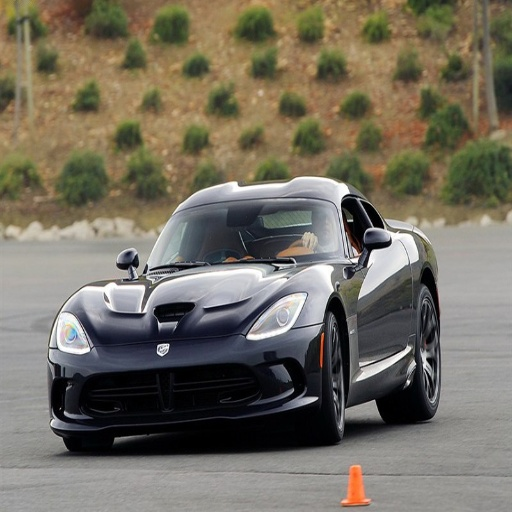front_bumper: (53, 297, 320, 432)
front_glass: (153, 198, 336, 267)
front_left_door: (344, 197, 398, 370)
